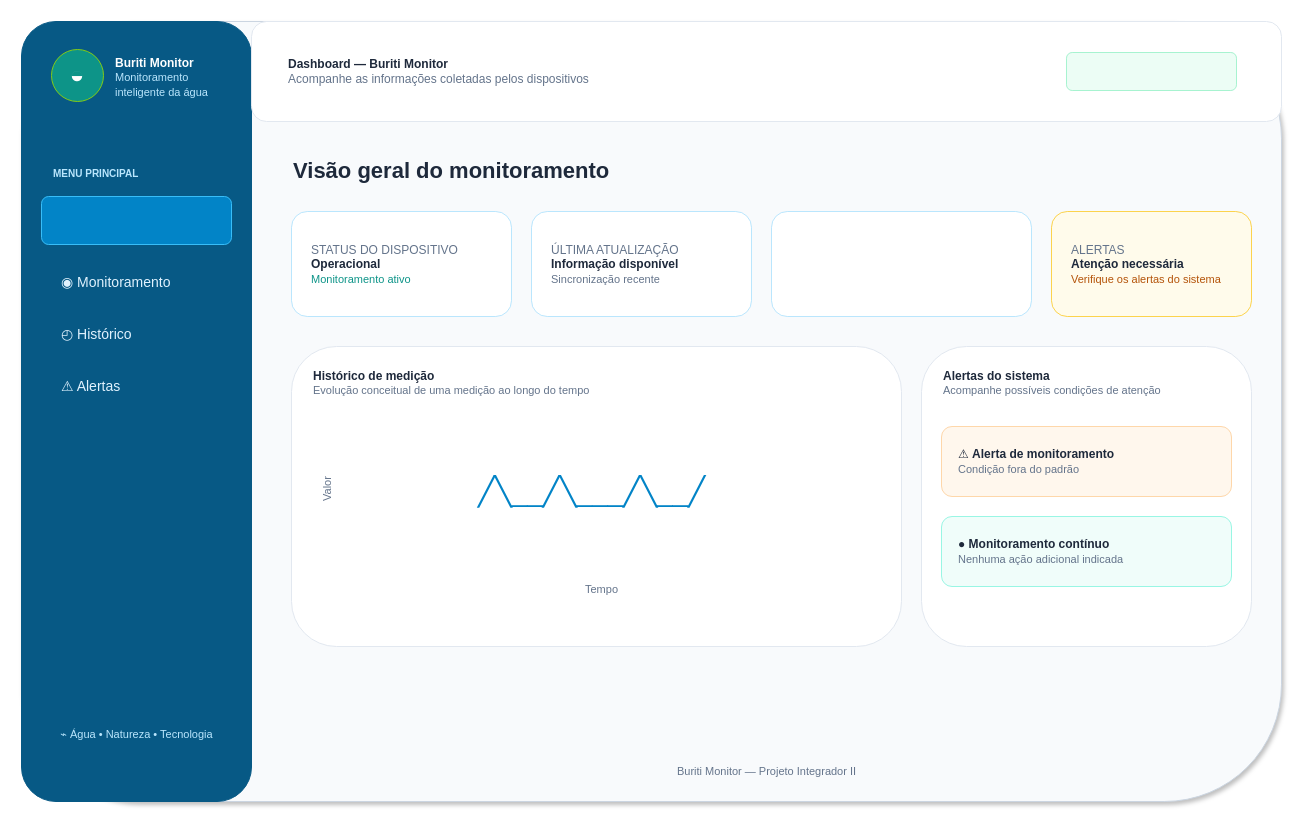
The diagram is 1305 pixels wide and 826 high, and some of its shapes have lost their labels. Each missing label, with the centre of its shape:
"LEITURAS ATUAIS Parâmetro 1 • Parâmetro 2 Parâmetro 3 disponível" goes at point (901, 263).
"▣ Dashboard" goes at point (136, 220).
"● Sistema conectado" goes at point (1151, 71).
